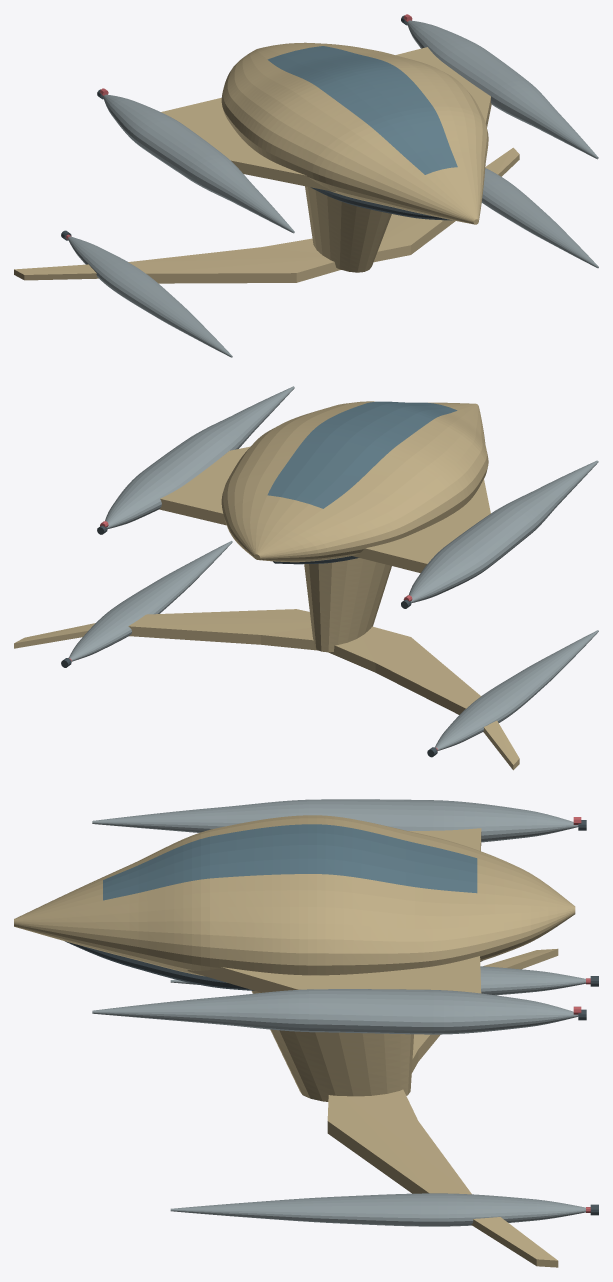
The model's file is arma_gold_off.glb.
3 renders of one model, top to bottom at view 1: azimuth 30°, elevation 25°; view 2: azimuth 150°, elevation 25°; view 3: azimuth 270°, elevation 25°, orthographic. The views are drawn at different scales.
Parts seen in each view (by area): view 1: material_0, material_3, material_1, material_2; view 2: material_0, material_3, material_1, material_2; view 3: material_0, material_3, material_1, material_2.
Part boxes in pixels (x1,y1,x2,y2): material_0: [14, 42, 519, 283]; material_3: [67, 20, 598, 357]; material_1: [267, 46, 457, 174]; material_2: [61, 15, 453, 240]; material_0: [14, 401, 519, 770]; material_3: [68, 386, 598, 750]; material_1: [267, 401, 457, 508]; material_2: [61, 525, 437, 757]; material_0: [14, 815, 575, 1267]; material_3: [92, 799, 585, 1226]; material_1: [103, 824, 477, 900]; material_2: [65, 820, 598, 1215].
Bounding box in the file's own units: 4.8 × 1.91 × 3.81.
